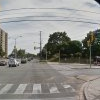crosswalk: (0, 82, 76, 95)
